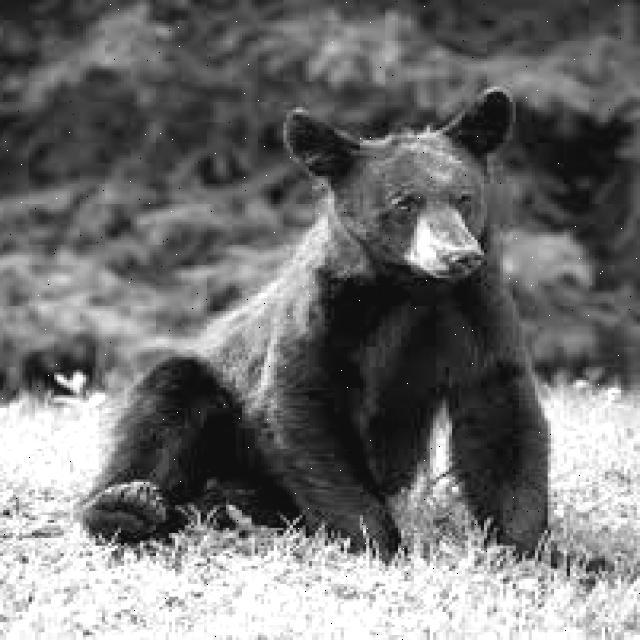bear: (76, 78, 556, 583)
